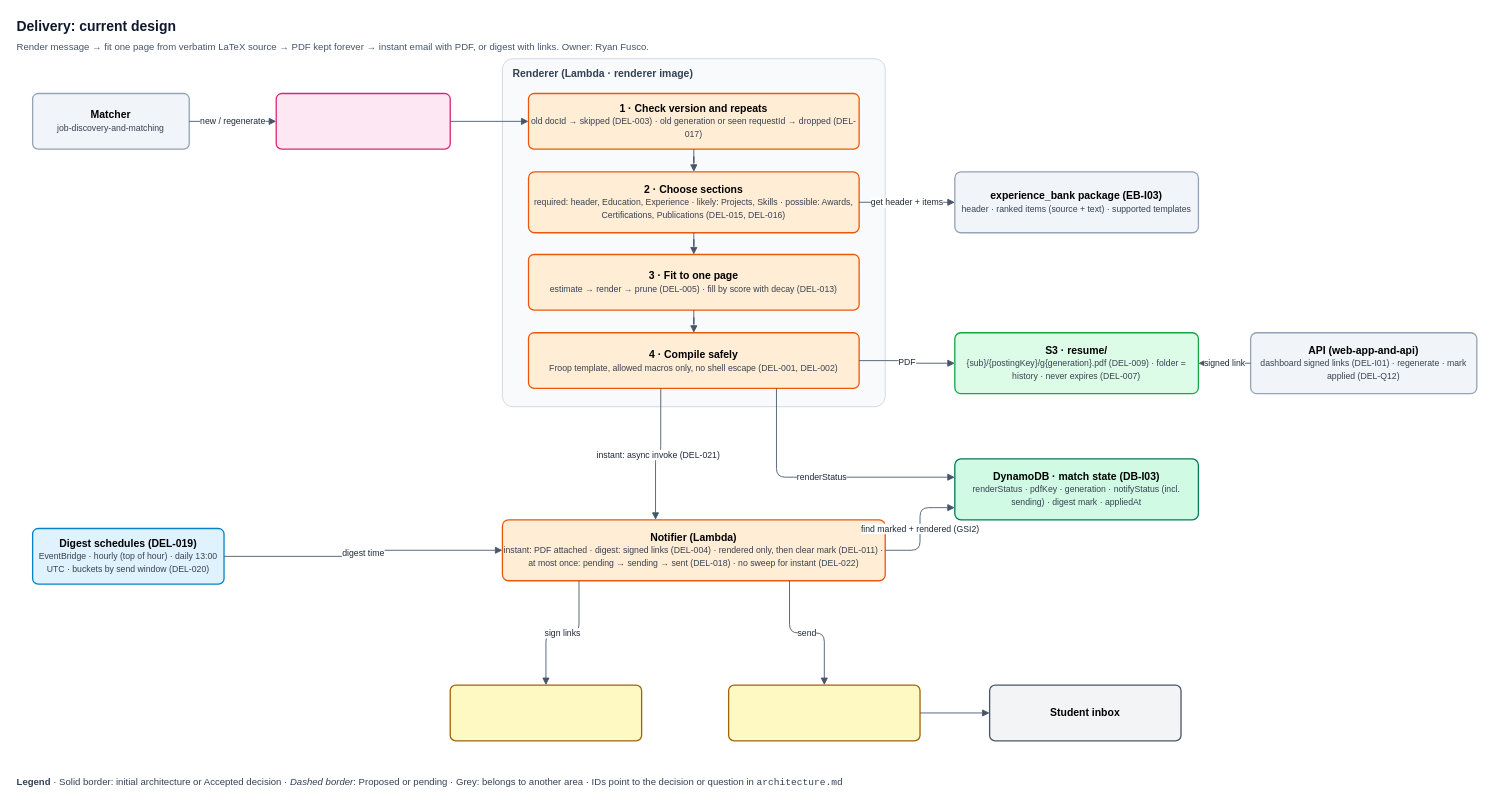
The diagram is 1492 pixels wide and 807 high, and some of its shapes have lost their labels. Each missing label, with the centre of its shape:
Secrets Manager CloudFront signing key: [545,712]
SES (sandbox, OPS-008) verified recipients only: [824,712]
SQS render queue + DLQ · render message (DEL-010, DEL-017, JDM-I03): [362,120]
